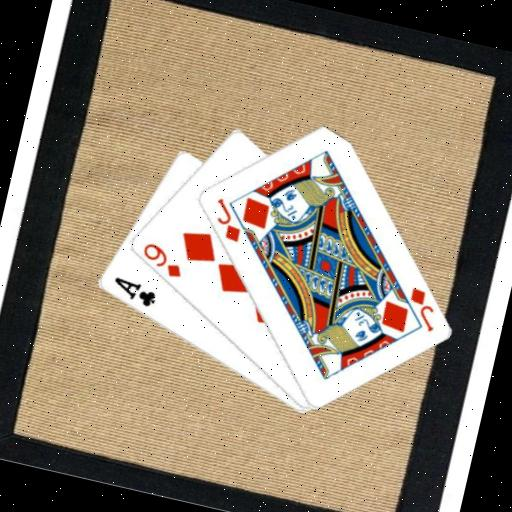9D: (135, 238, 189, 281)
AC: (107, 273, 160, 311)
JD: (205, 193, 249, 245), (400, 283, 444, 335)
